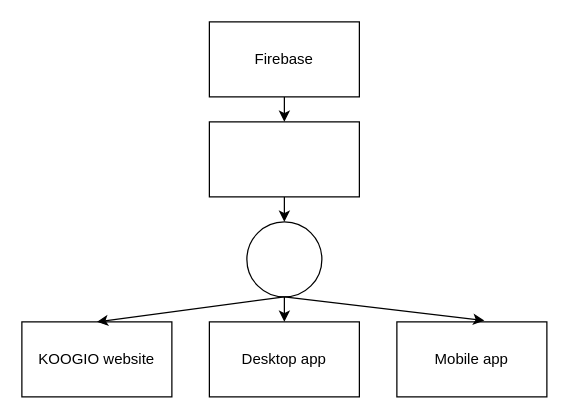
Image size: 569x419. Some labels were removed from this diagram. Here are the shapes that lost their labels. From the top down, the box of each, then its label:
(208, 121, 359, 197): Admin CMS
(246, 221, 322, 297): API
